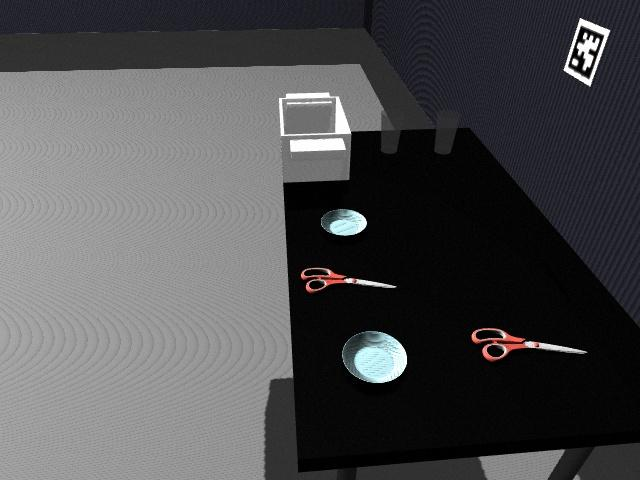cup: (433, 109, 460, 156), (380, 107, 401, 155)
plate: (340, 330, 410, 385), (319, 208, 368, 237), (350, 331, 393, 352)
scissors: (471, 325, 589, 362), (302, 266, 396, 294)
